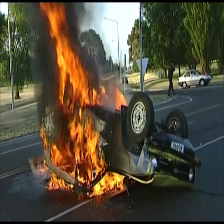fire_h: (39, 1, 108, 186), (87, 171, 125, 199), (48, 170, 74, 190)
fire_l: (114, 88, 127, 110), (40, 126, 48, 155), (37, 160, 48, 173)
